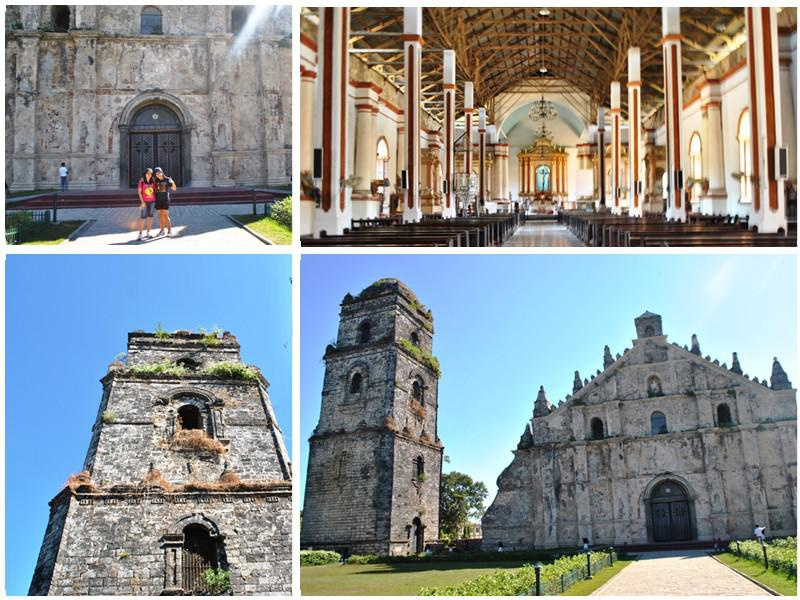paoay_church_paoay_ilocos_norte: (306, 268, 800, 550)
vegetation_damage: (391, 337, 445, 381), (128, 353, 186, 382), (206, 355, 261, 385)
